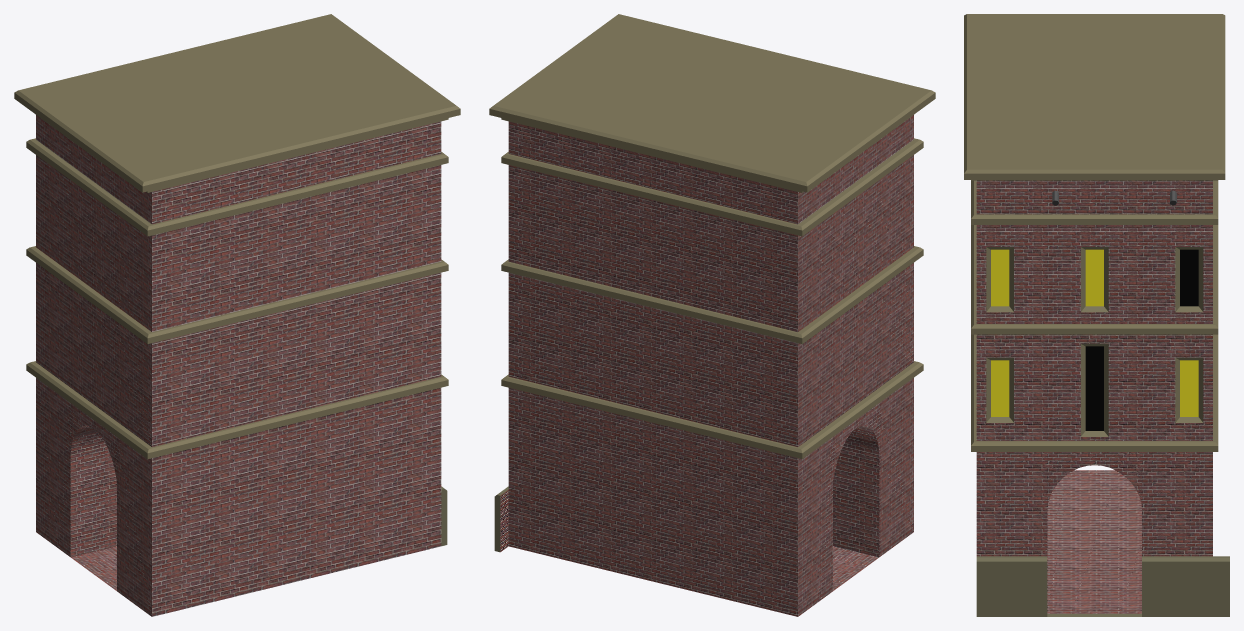
The model's file is terrace2.fbx.
3 renders of one model, left to right at view 1: azimuth 30°, elevation 25°; view 2: azimuth 150°, elevation 25°; view 3: azimuth 270°, elevation 25°, orthographic.
Parts seen in each view (by area): view 1: Cube, Cube.001; view 2: Cube, Cube.001; view 3: Cube, Cube.001.
Boxes of the visible parts, x1=… form: Cube: x1=36, y1=115, x2=447, y2=616; Cube.001: x1=14, y1=14, x2=460, y2=459; Cube: x1=494, y1=115, x2=913, y2=616; Cube.001: x1=489, y1=14, x2=935, y2=459; Cube: x1=976, y1=180, x2=1229, y2=616; Cube.001: x1=964, y1=14, x2=1225, y2=451.
Size of the model in its own units: 403 by 523 by 280.
